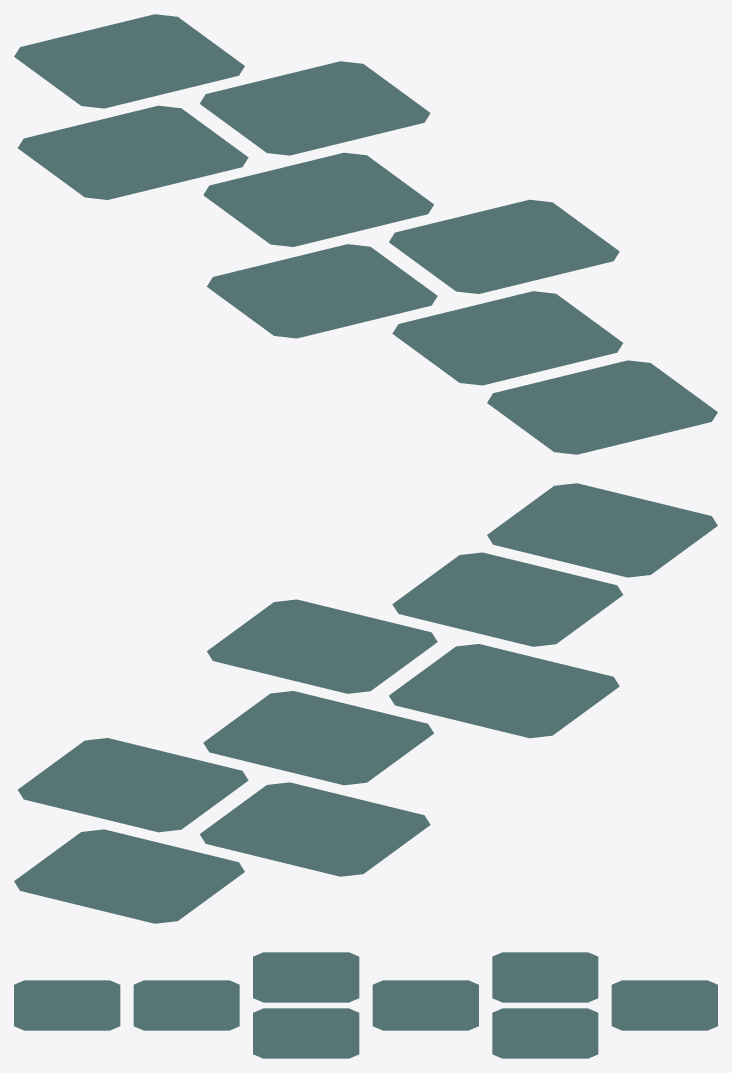
Rendered from d03_court_graphics_02.glb.
The picture shows the model from 3 angles, top to bottom: view 1: azimuth 30°, elevation 25°; view 2: azimuth 150°, elevation 25°; view 3: azimuth 270°, elevation 25°; orthographic projection. The views are drawn at different scales.
Parts seen in each view (by area): view 1: D03CourtGraphics02_Mesh; view 2: D03CourtGraphics02_Mesh; view 3: D03CourtGraphics02_Mesh.
Part boxes in pixels (x1,y1,x2,y2): D03CourtGraphics02_Mesh: (14,14,717,454); D03CourtGraphics02_Mesh: (14,483,717,923); D03CourtGraphics02_Mesh: (14,952,717,1058).
Bounding box in the file's own units: 1.9 × 0 × 5.3.
